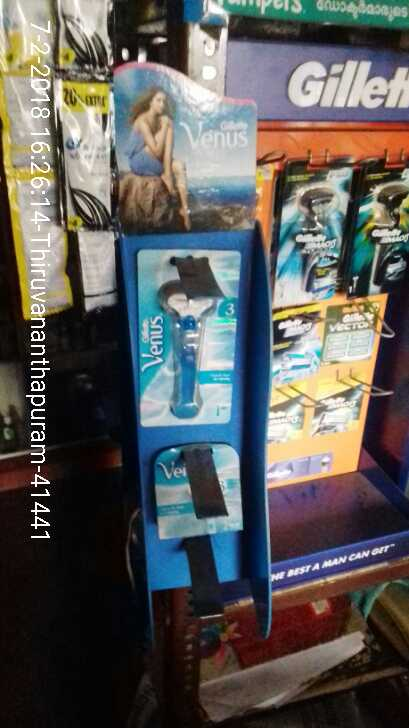beauty: (129, 248, 238, 424), (276, 164, 341, 306), (154, 444, 244, 544), (344, 168, 409, 296), (272, 307, 318, 383)
